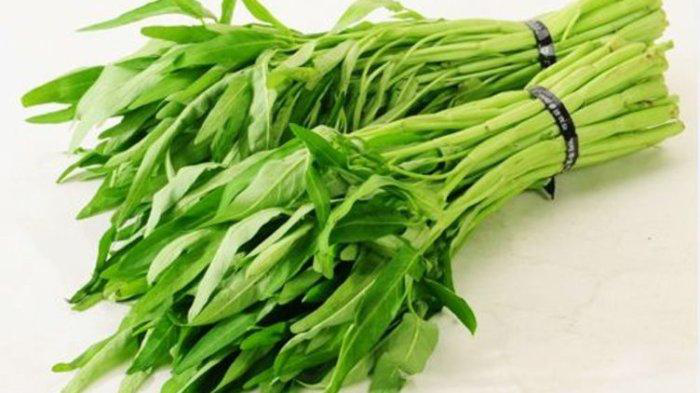Kangkung: (39, 25, 681, 240)
